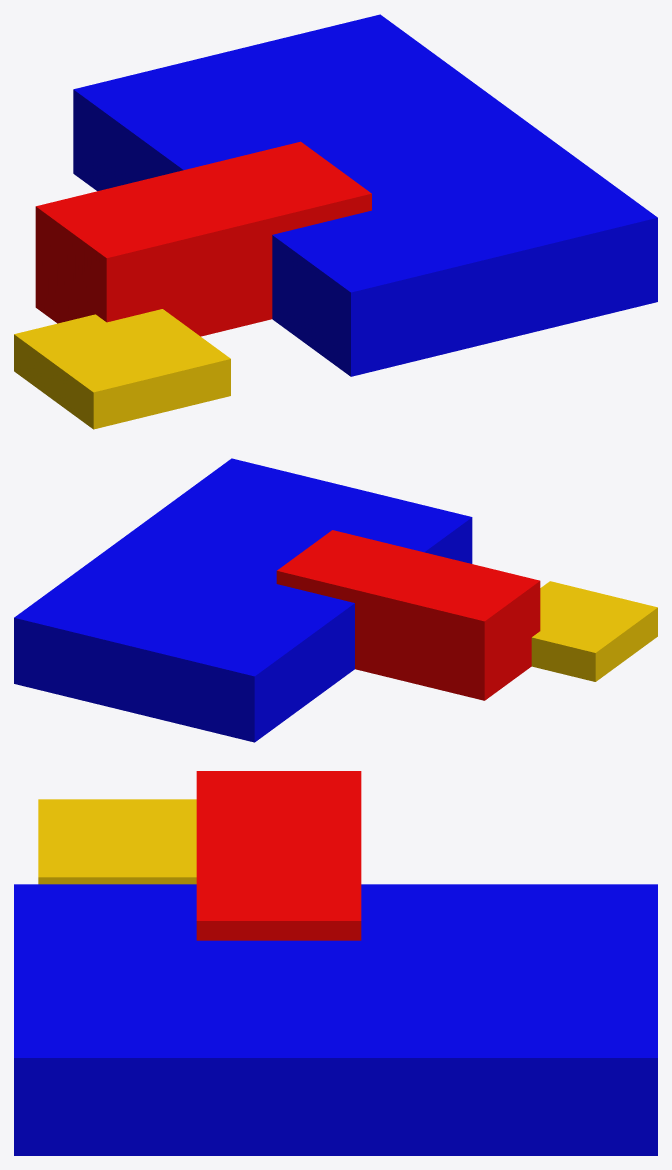
3 renders of one model, top to bottom at view 1: azimuth 30°, elevation 25°; view 2: azimuth 150°, elevation 25°; view 3: azimuth 270°, elevation 25°, orthographic. The views are drawn at different scales.
Parts seen in each view (by area): view 1: box, drawer, front; view 2: box, drawer, front; view 3: box, drawer, front.
Part boxes in pixels (x1,y1,x2,y2): box: [73, 14, 657, 376]; drawer: [35, 141, 371, 336]; front: [14, 309, 230, 429]; box: [14, 458, 472, 742]; drawer: [276, 530, 540, 700]; front: [531, 581, 657, 681]; box: [14, 884, 657, 1155]; drawer: [196, 771, 361, 940]; front: [38, 799, 196, 884].
Bounding box in the file's own units: 0.3037 × 0.0531 × 0.2636.
